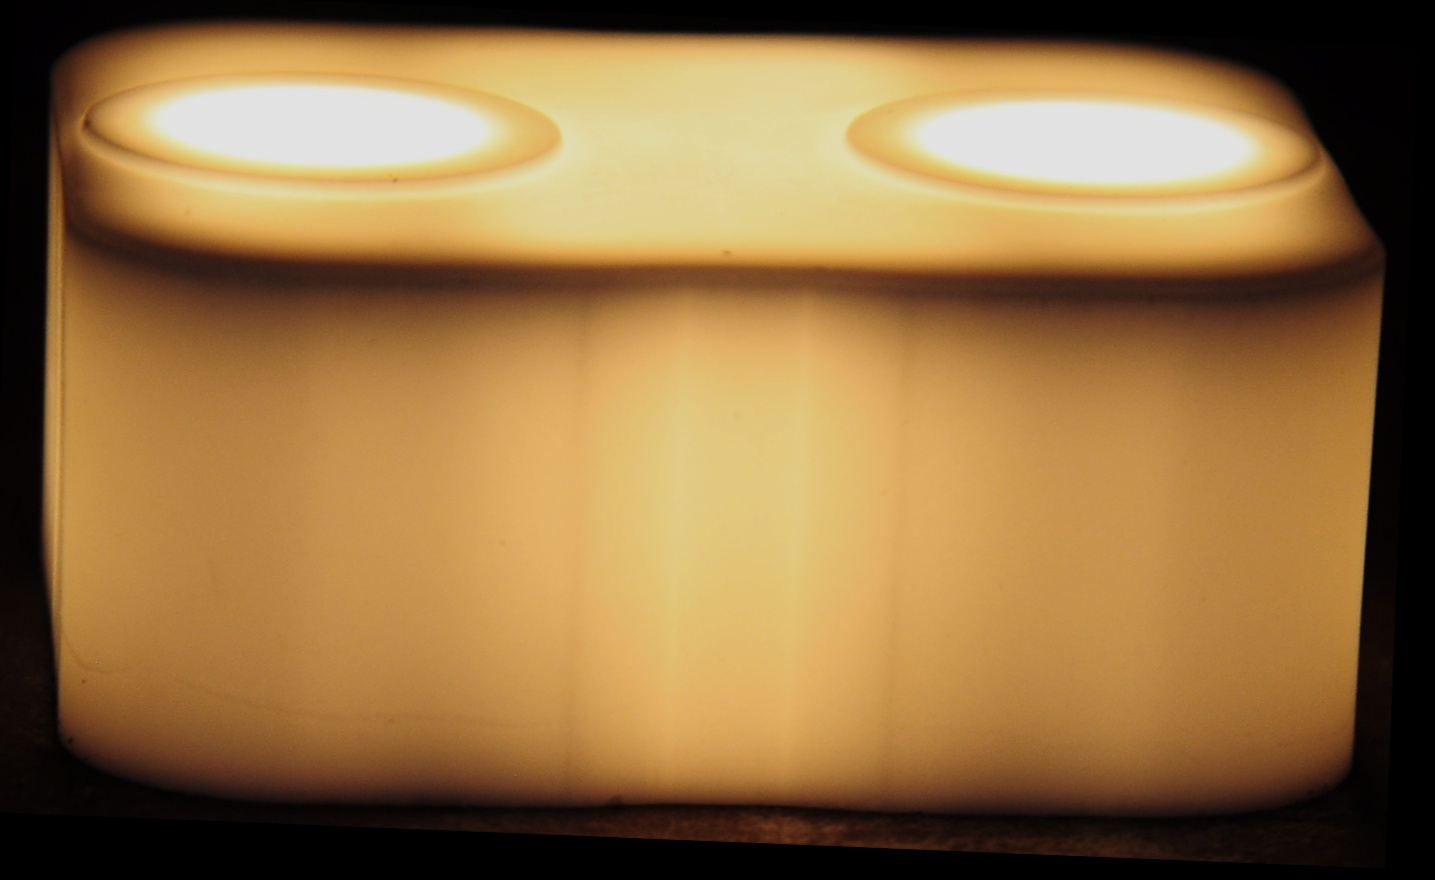flaw: (52, 628, 605, 743), (961, 713, 1352, 769)
protrusion: (382, 168, 409, 188)
